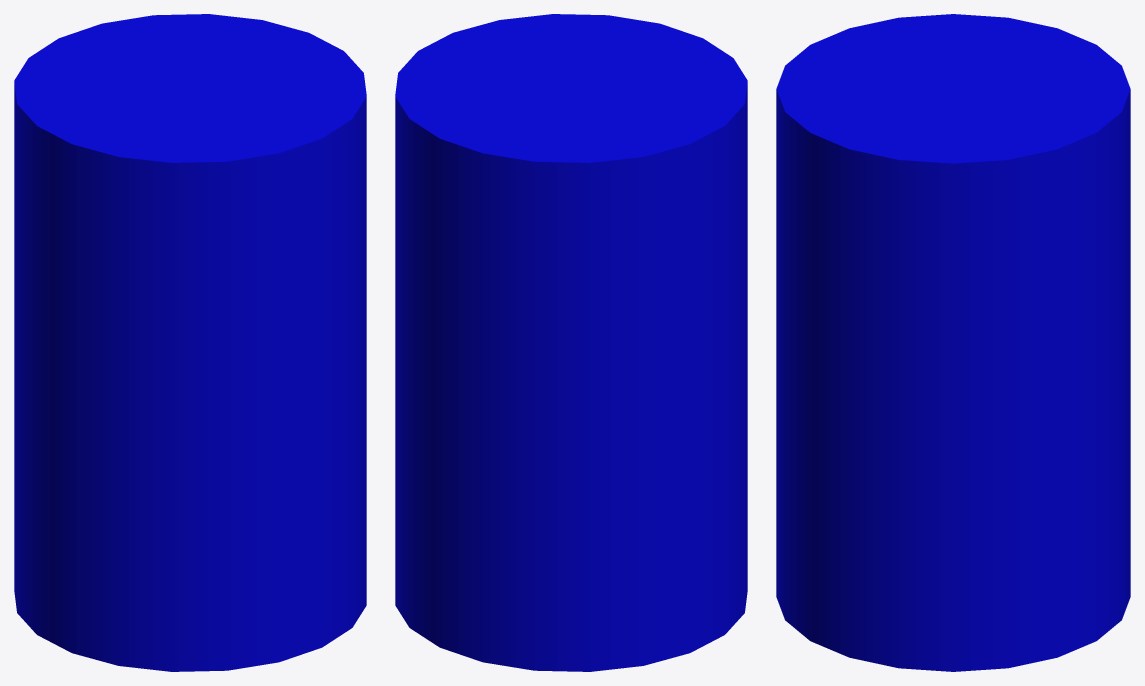
Rendered from 0.005blu.fbx.
The picture shows the model from 3 angles, left to right: view 1: azimuth 30°, elevation 25°; view 2: azimuth 150°, elevation 25°; view 3: azimuth 270°, elevation 25°; orthographic projection.
Parts seen in each view (by area): view 1: pCylinder1; view 2: pCylinder1; view 3: pCylinder1.
Part boxes in pixels (x1,y1,x2,y2): pCylinder1: (14,14,366,671); pCylinder1: (395,14,747,671); pCylinder1: (776,14,1130,671).
Bounding box in the file's own units: 0.00539 × 0.00854 × 0.00539.
